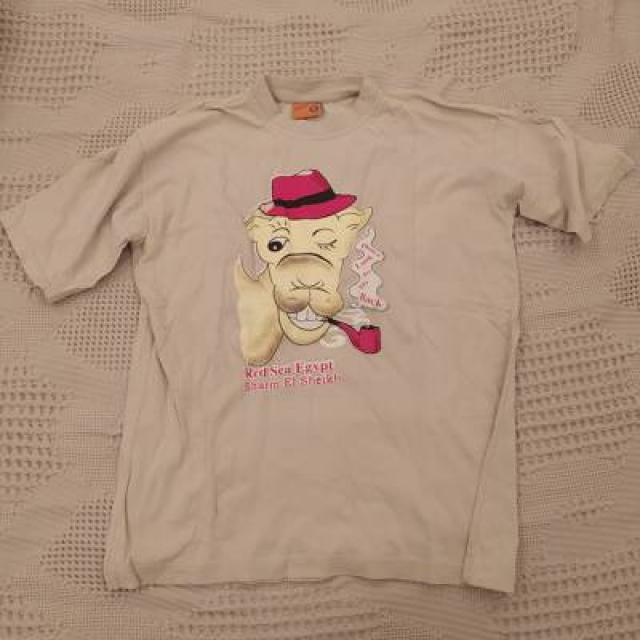Clothes -Biodegradable-: (4, 72, 631, 592)
